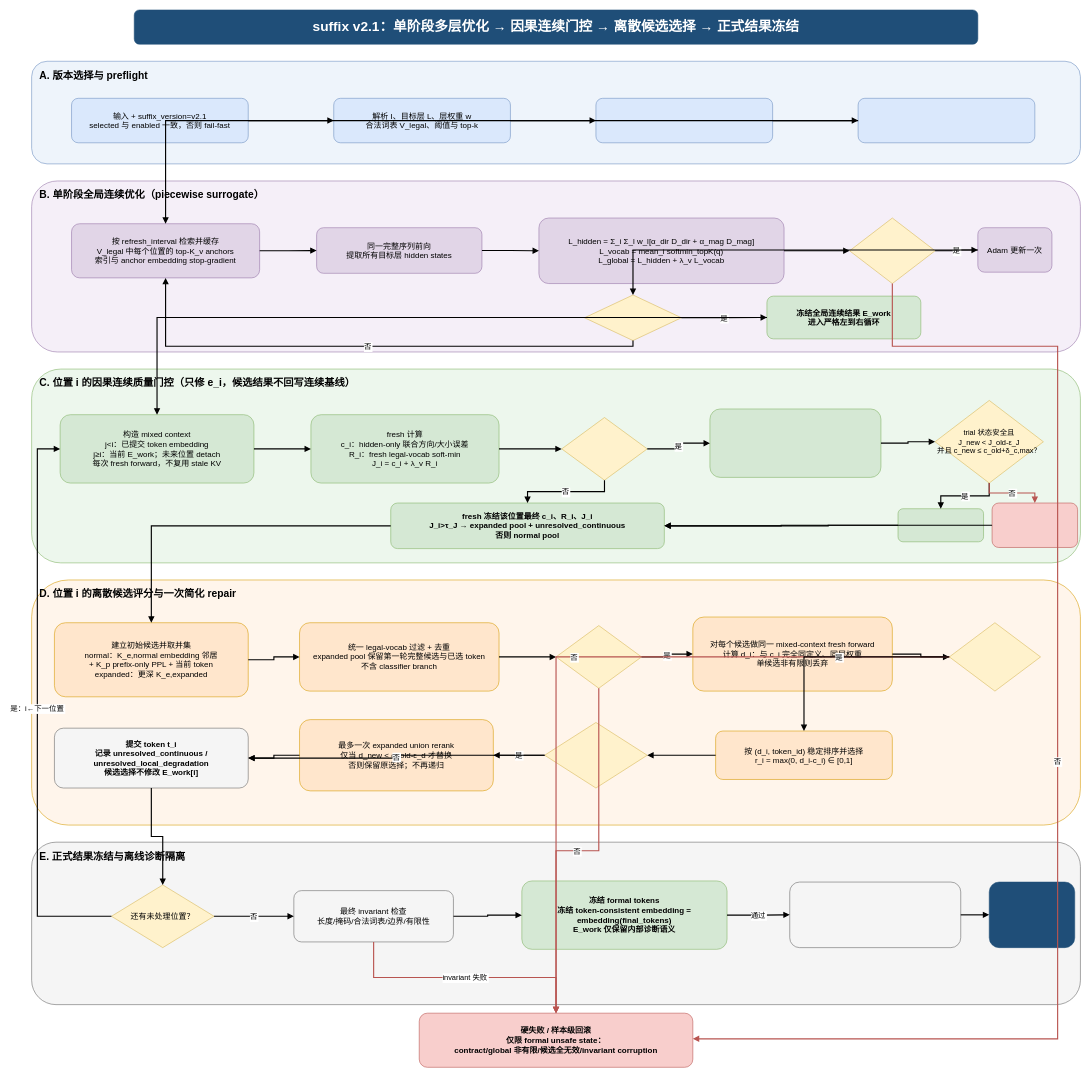
Image size: 1090x1077. Some labels were removed from this diagram. The shapes that lost their labels are listed below. From the top down, each one's centre as x and y in pixels, then its label:
At point (684, 120): "不可变快照与结构检查 固定/补齐位置永不进入 optimizer".
At point (946, 120): "仅为 I 中位置创建 trainable embedding 一次初始化、贯穿全局阶段的 Adam".
At point (892, 250): "loss / grad 全部有限？".
At point (632, 317): "达到全局步数？".
At point (604, 448): "J_i > τ_J？".
At point (795, 442): "最多一次 local Adam repair 仅 e_i 可训练；目标仍为 J_i 左前缀固定，未来位置 detach".
At point (940, 525): "接受 trial e_i".
At point (1035, 524): "拒绝 trial；恢复旧 e_i trial 非有限也只是 local reject".
At point (598, 656): "候选池非空？".
At point (995, 656): "至少一个 有限正式得分？".
At point (595, 755): "r_i > τ_r 且初始池为 normal？".
At point (875, 915): "diagnostics_enabled？ 否：零 ground-truth read 是：正式结果冻结后只读诊断".
At point (1032, 915): "返回正式结果 诊断异常仅 diagnostics_failed 不得回滚或改写 formal result".
